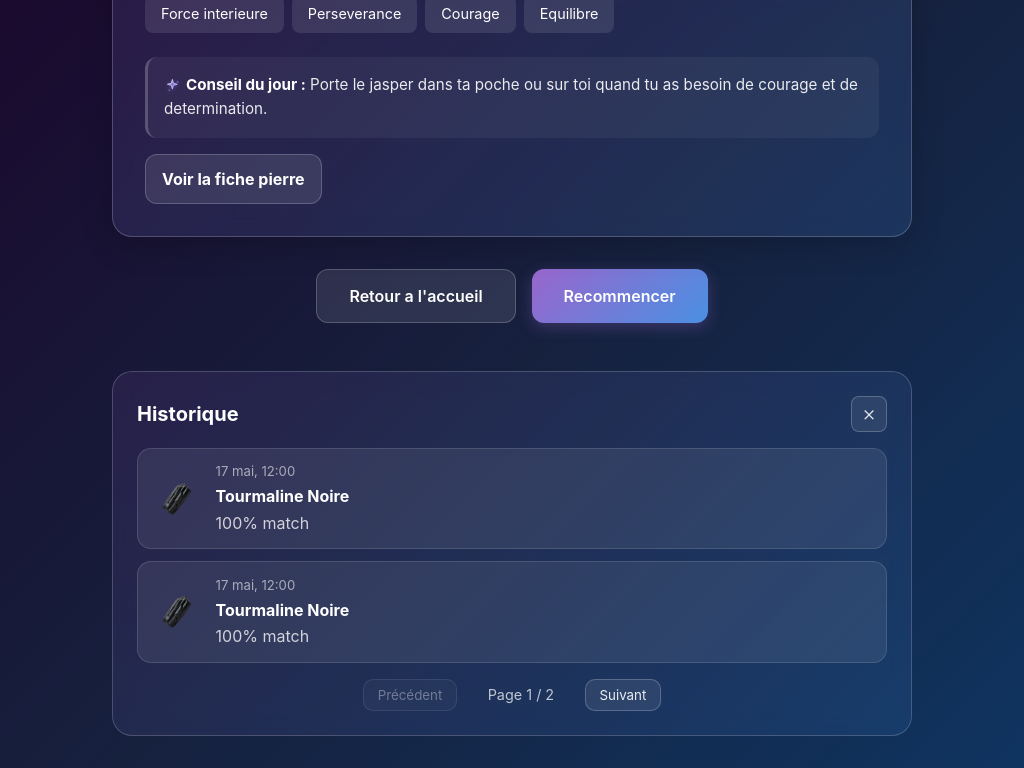
Test case: Results history › goes to the previous history page
The width and height of the screenshot is (1024, 768).
(page scrolled)
Click the button with aria-label "Page suivante": click(623, 695) top-left (585, 679), bottom-right (661, 711)
(page scrolled)
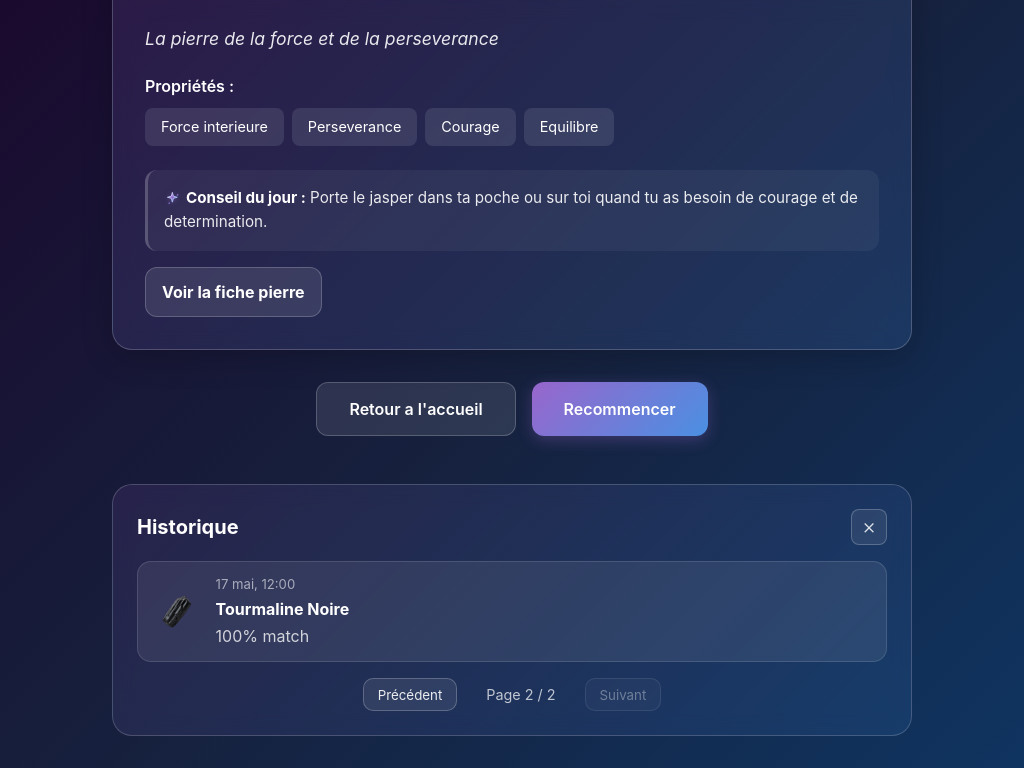
Click the button with aria-label "Page précédente": click(410, 694) top-left (363, 678), bottom-right (457, 711)
(page scrolled)
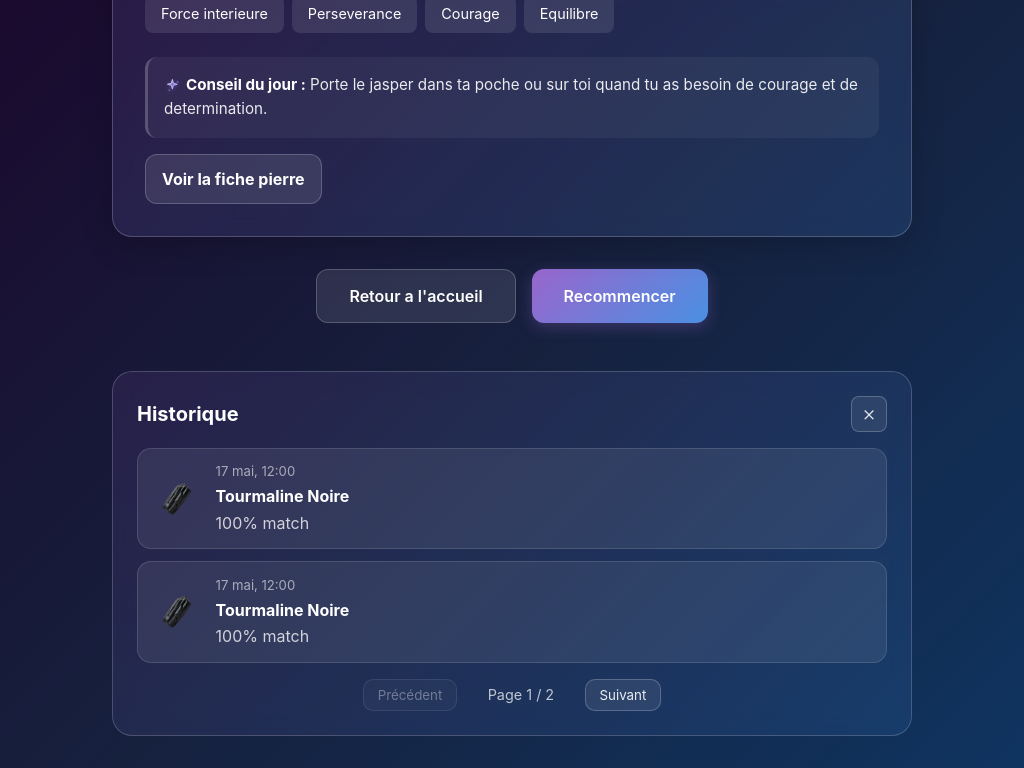
Expected: the text "Page 1 / 2" is shown, top-left (488, 686), bottom-right (554, 703)
